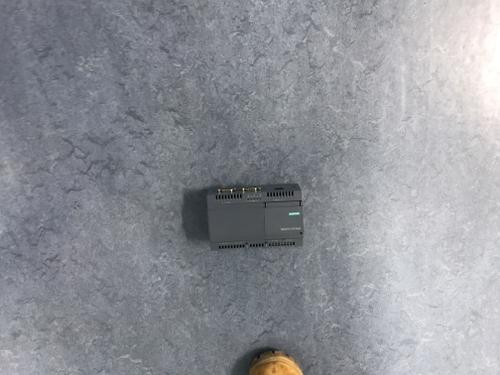device: (207, 184, 304, 251)
